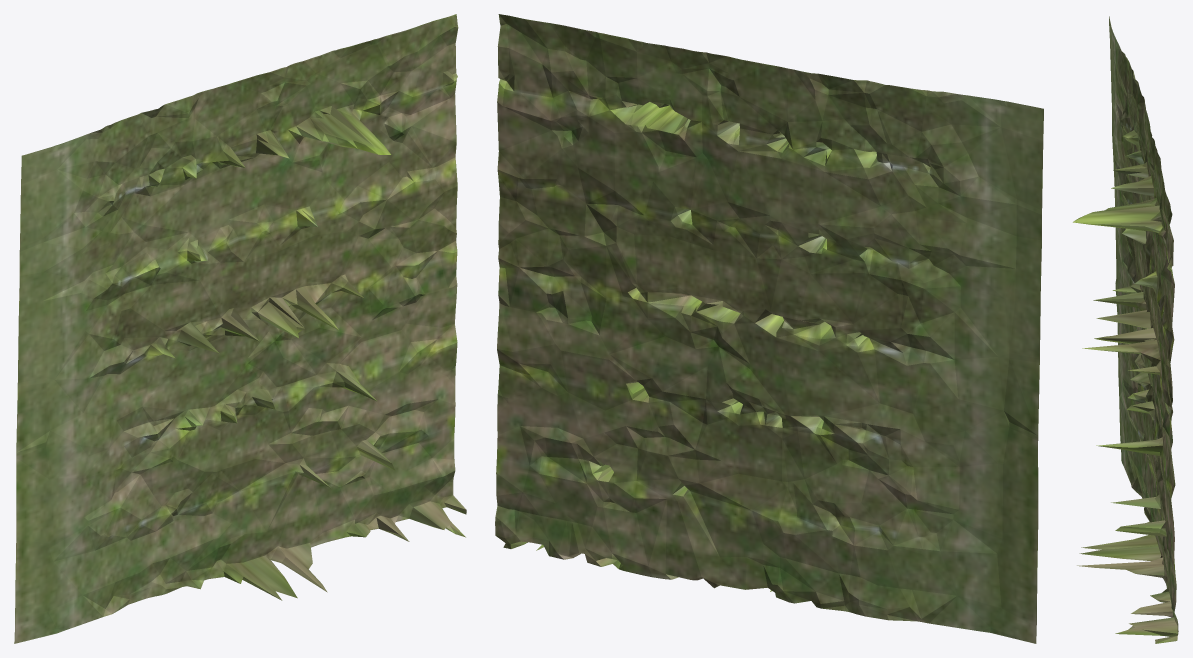
File: map_150_90.obj
3 views of the same model, side by side, from view 1: azimuth 30°, elevation 25°; view 2: azimuth 150°, elevation 25°; view 3: azimuth 270°, elevation 25° (orthographic). The views are drawn at different scales.
Visible parts, largest first — view 1: grp1; view 2: grp1; view 3: grp1.
Boxes of the visible parts, x1,y1,x2,y2 form: grp1: [14, 14, 466, 643]; grp1: [495, 14, 1043, 643]; grp1: [1073, 16, 1178, 643].
Size of the model in its own units: 10 by 10 by 2.24.
Materials: 1 (1 with a texture image).
